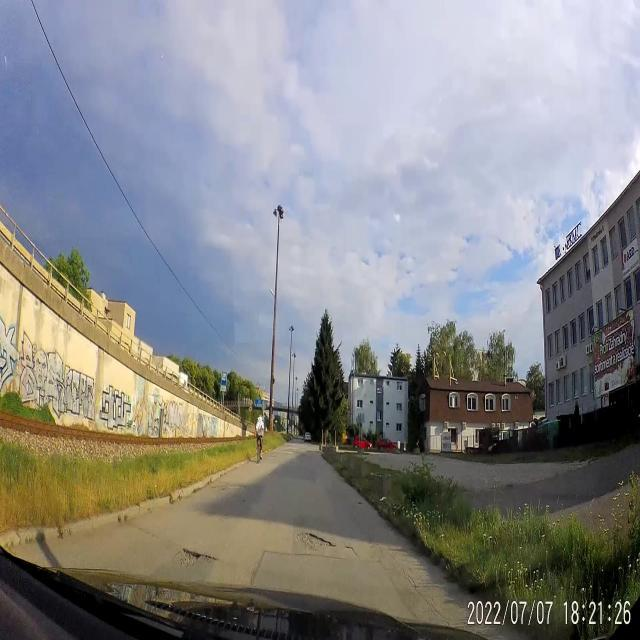Pothole: (292, 527, 340, 556), (170, 545, 222, 568), (344, 541, 364, 558), (349, 497, 366, 512)
